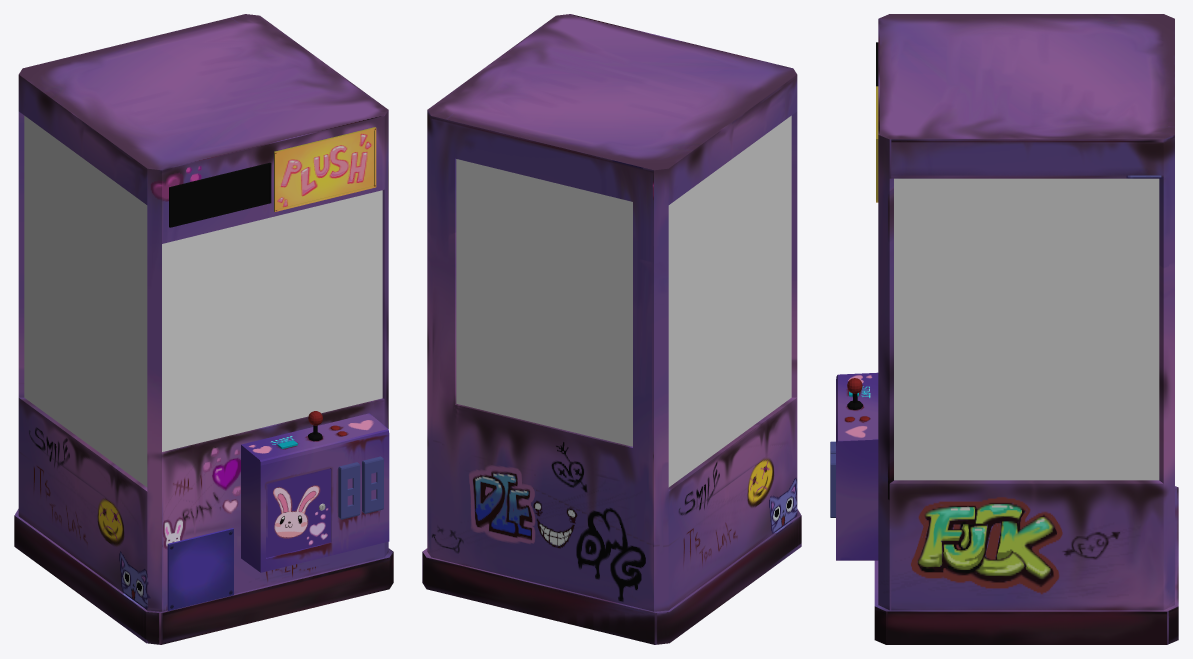
File: ClawMachine.fbx
The picture shows the model from 3 angles, left to right: view 1: azimuth 30°, elevation 25°; view 2: azimuth 150°, elevation 25°; view 3: azimuth 270°, elevation 25°; orthographic projection. The views are drawn at different scales.
Parts seen in each view (by area): view 1: Kabinet, Glas, Panel, Skilt, Lem, Ur, mønt; view 2: Kabinet, Glas; view 3: Kabinet, Glas, Panel.
Boxes of the visible parts, box(x1,y1,x2,y2) form: Kabinet: box(14, 14, 393, 644); Glas: box(24, 115, 382, 487); Panel: box(241, 413, 389, 572); Skilt: box(274, 127, 376, 211); Lem: box(167, 528, 233, 610); Ur: box(169, 162, 271, 227); mønt: box(338, 456, 383, 519); Kabinet: box(422, 14, 801, 644); Glas: box(456, 115, 791, 487); Kabinet: box(874, 14, 1178, 644); Glas: box(894, 178, 1159, 480); Panel: box(836, 372, 878, 560).
Size of the model in its own units: 442 by 808 by 506.
11 materials, 4 textured.
